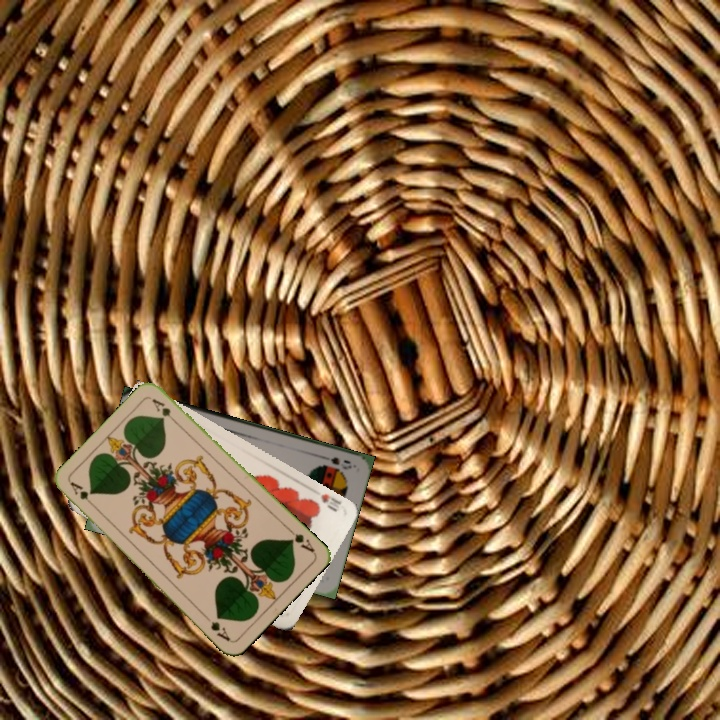GA: (66, 478, 98, 510), (284, 524, 317, 555)
H10: (317, 489, 344, 514)
SO: (327, 453, 354, 472)
